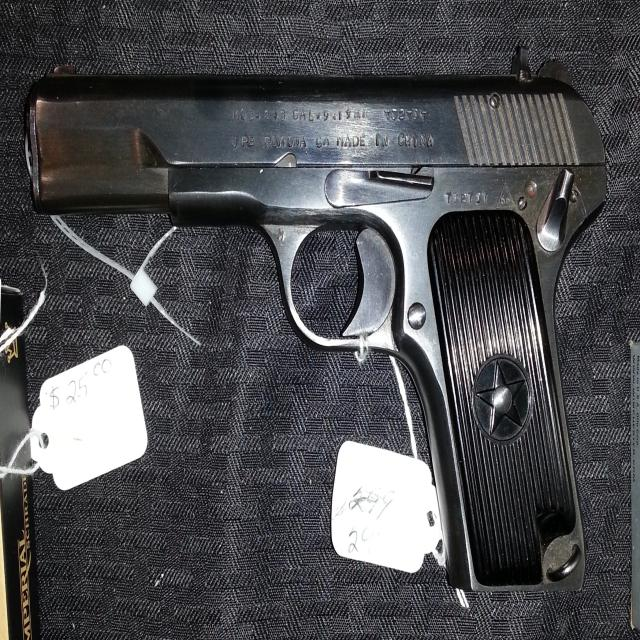HandGun: (25, 50, 607, 593)
